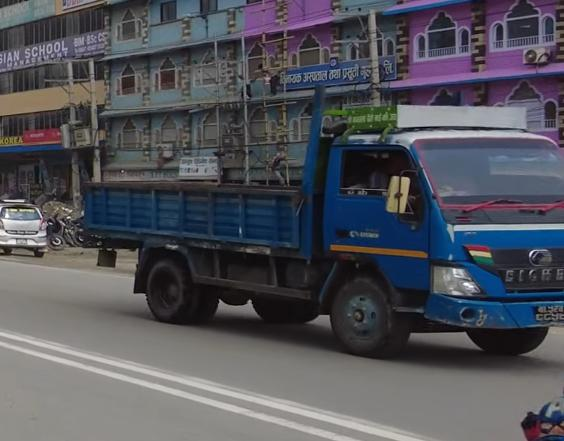bike: (38, 199, 82, 253)
mini_truck: (78, 81, 564, 381)
taxi: (0, 183, 55, 266)
